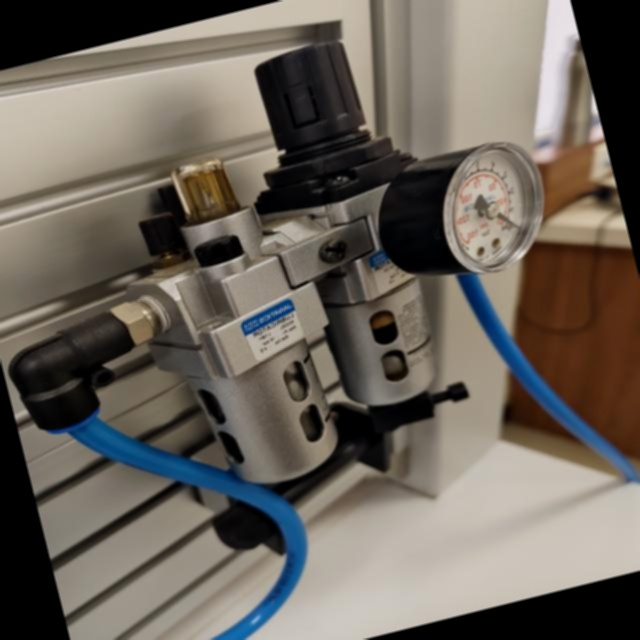FRL unit: (0, 0, 621, 611)
